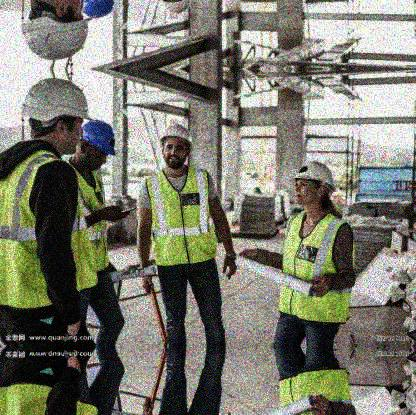helmet: (18, 78, 96, 159), (21, 1, 96, 62), (291, 160, 337, 211), (73, 120, 117, 171), (158, 124, 194, 169)
